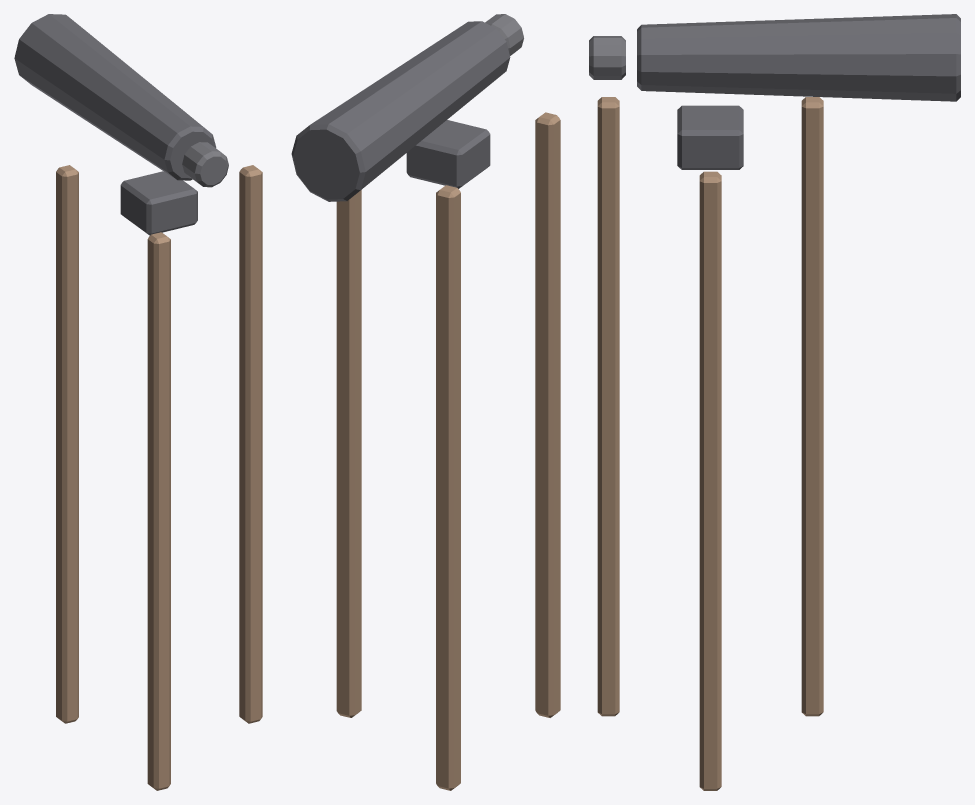
The model's file is SM_Telescope.fbx.
The picture shows the model from 3 angles, left to right: view 1: azimuth 30°, elevation 25°; view 2: azimuth 150°, elevation 25°; view 3: azimuth 270°, elevation 25°; orthographic projection. The views are drawn at different scales.
Visible parts, largest first — view 1: Telescope; view 2: Telescope; view 3: Telescope.
Boxes of the visible parts, x1,y1,x2,y2 form: Telescope: (14, 14, 262, 790); Telescope: (291, 14, 560, 790); Telescope: (589, 14, 960, 790).
Bounding box in the file's own units: 27 × 108 × 50.5.
